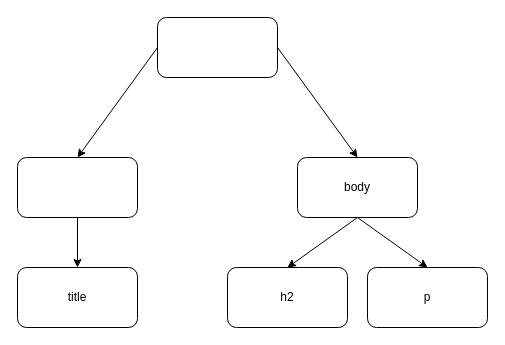
Some shapes in this 505 by 345 pixel diagram are drawn without their labels. The centre of each missing label's shape, as x and y in pixels:
head: the point at 77,187
html: the point at 217,47
